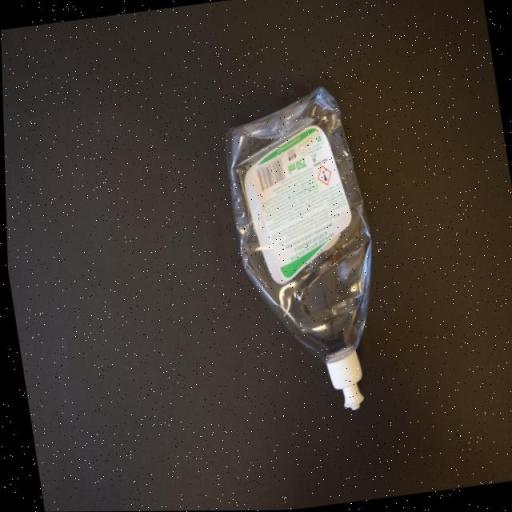plastic: (214, 86, 400, 423)
